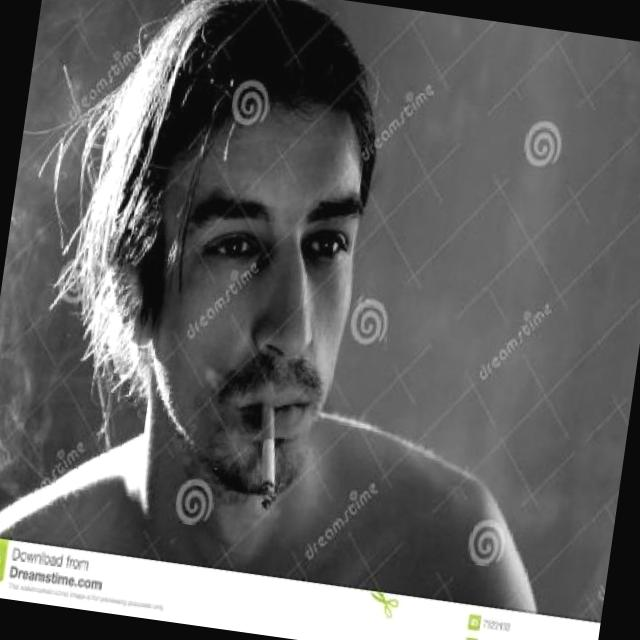smoke: (242, 403, 293, 513)
